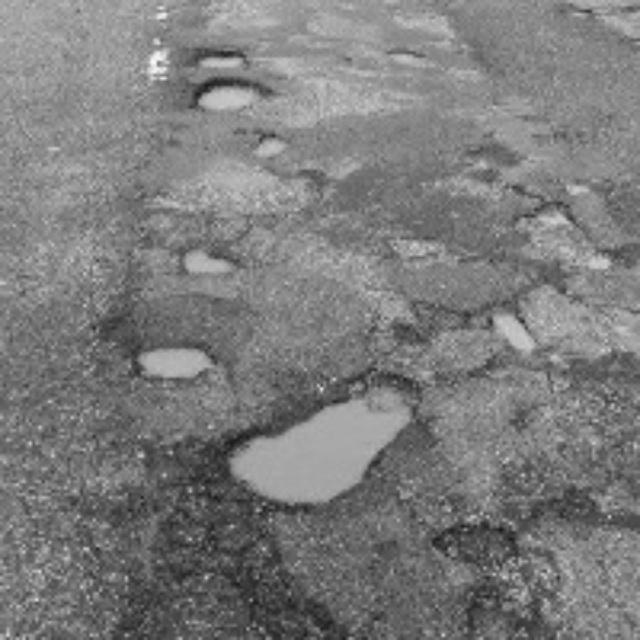Pothole: (224, 381, 378, 517), (129, 340, 204, 386), (482, 301, 542, 352), (173, 240, 236, 284), (529, 186, 579, 234), (197, 77, 263, 113), (187, 40, 254, 73)
